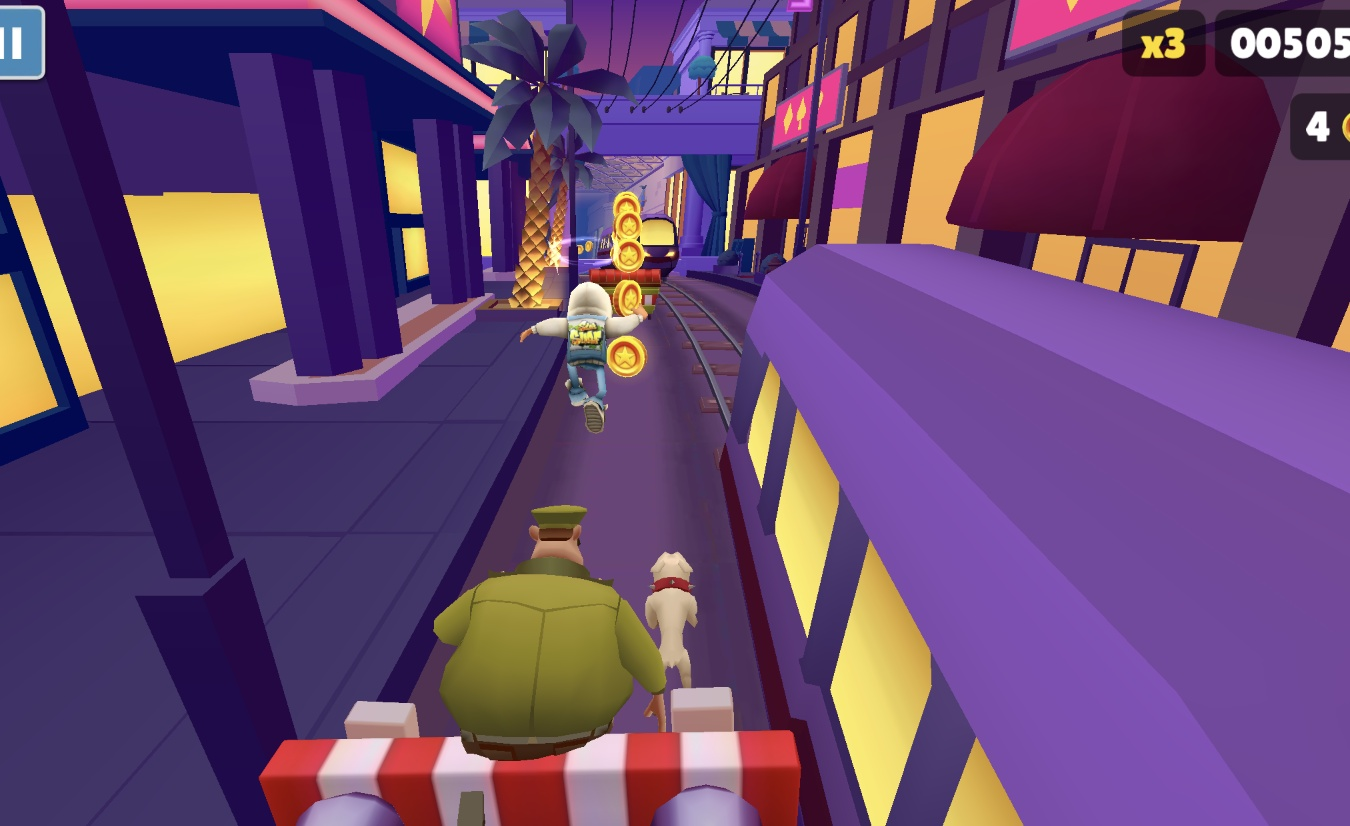ground_barrier: (258, 733, 801, 826), (589, 268, 662, 319)
train: (733, 246, 1349, 826), (595, 213, 680, 280)
